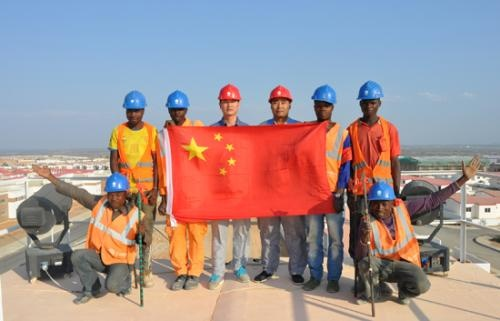blue: (366, 180, 396, 219), (120, 88, 148, 126), (357, 78, 382, 119), (104, 170, 129, 210), (310, 84, 337, 121), (164, 89, 190, 123)
red: (216, 82, 242, 119), (267, 82, 292, 119)
